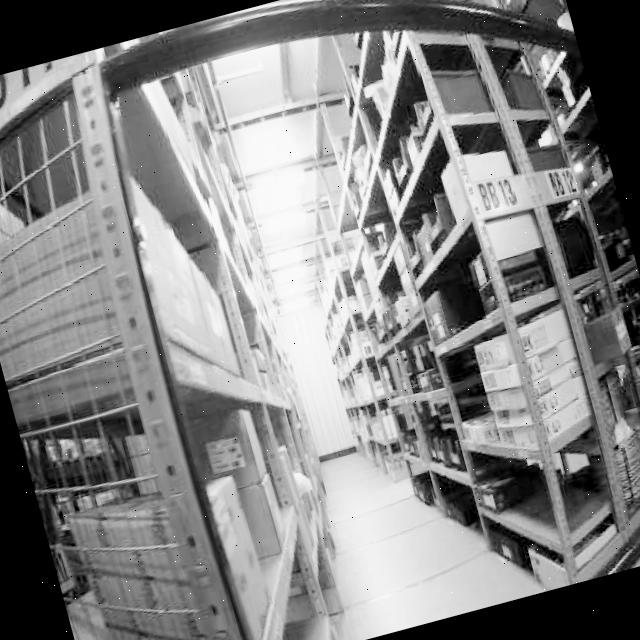ground: (45, 370, 640, 640)
pallet: (236, 0, 640, 628), (0, 20, 368, 640), (46, 442, 350, 640), (302, 253, 410, 490)
